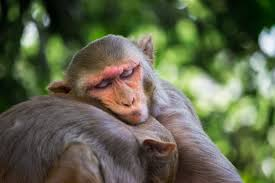monkey: (43, 25, 208, 153), (15, 81, 176, 183)
